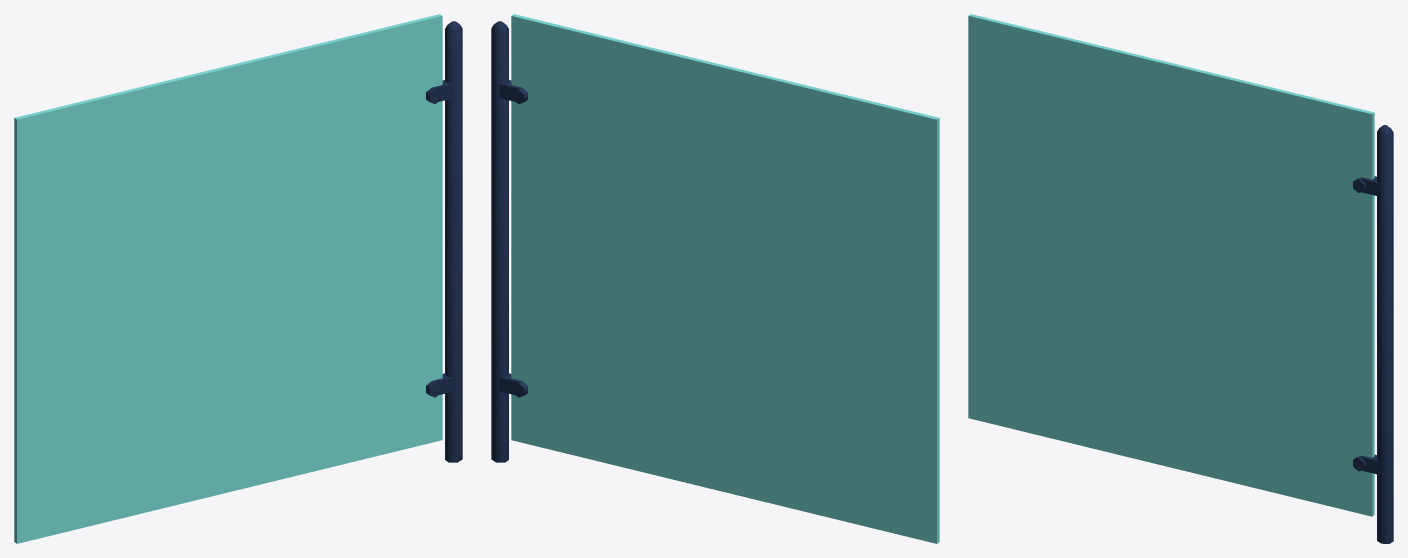
The model's file is Rail End A Test.fbx.
The picture shows the model from 3 angles, left to right: view 1: azimuth 30°, elevation 25°; view 2: azimuth 150°, elevation 25°; view 3: azimuth 330°, elevation 25°; orthographic projection. The views are drawn at different scales.
Visible parts, largest first — view 1: Rail End A; view 2: Rail End A; view 3: Rail End A.
Boxes of the visible parts, x1,y1,x2,y2 form: Rail End A: (14,14,462,543); Rail End A: (491,14,939,543); Rail End A: (968,14,1393,543).
Size of the model in its own units: 0.9875 by 0.95 by 0.0375.
